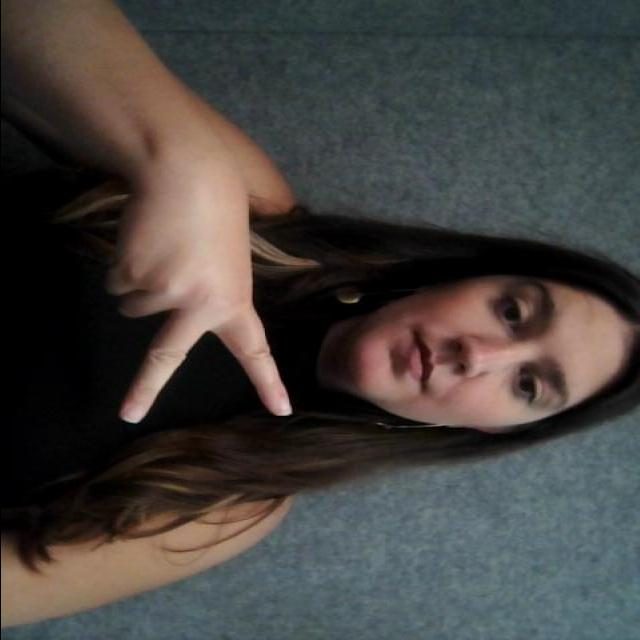Scissors: (43, 130, 304, 445)
